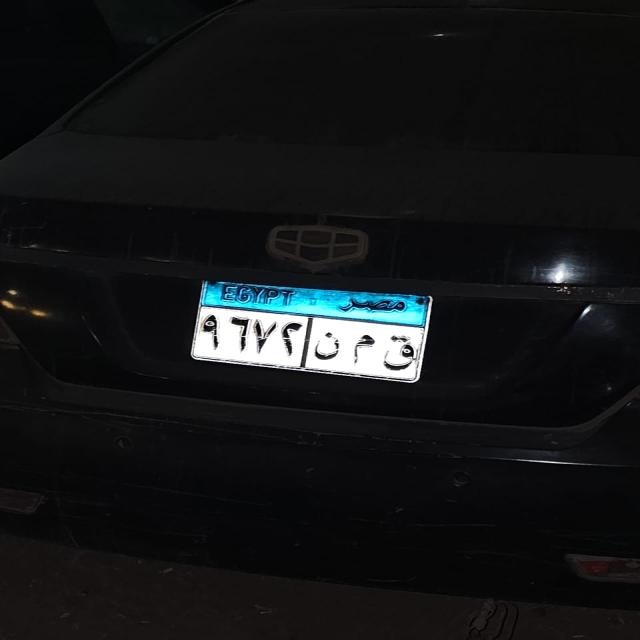car-plate: (194, 283, 422, 378)
